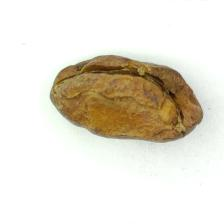NG: (51, 56, 196, 140)
